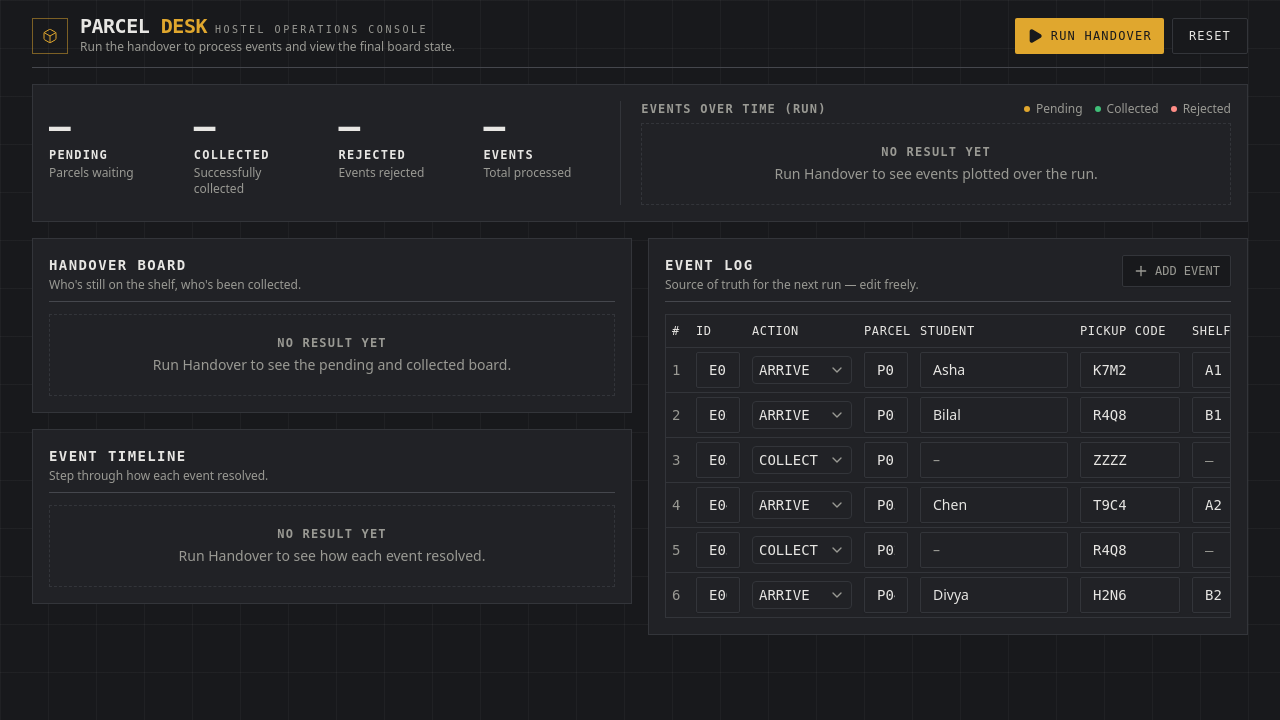
Test case: App — validation › rejects an invalid pickup code with a specific field-level message
This screenshot has width=1280, height=720.
Replace the text in the field named "Row 1 Pickup Code" with "bad": (1130, 370) [1080,352,1180,388]
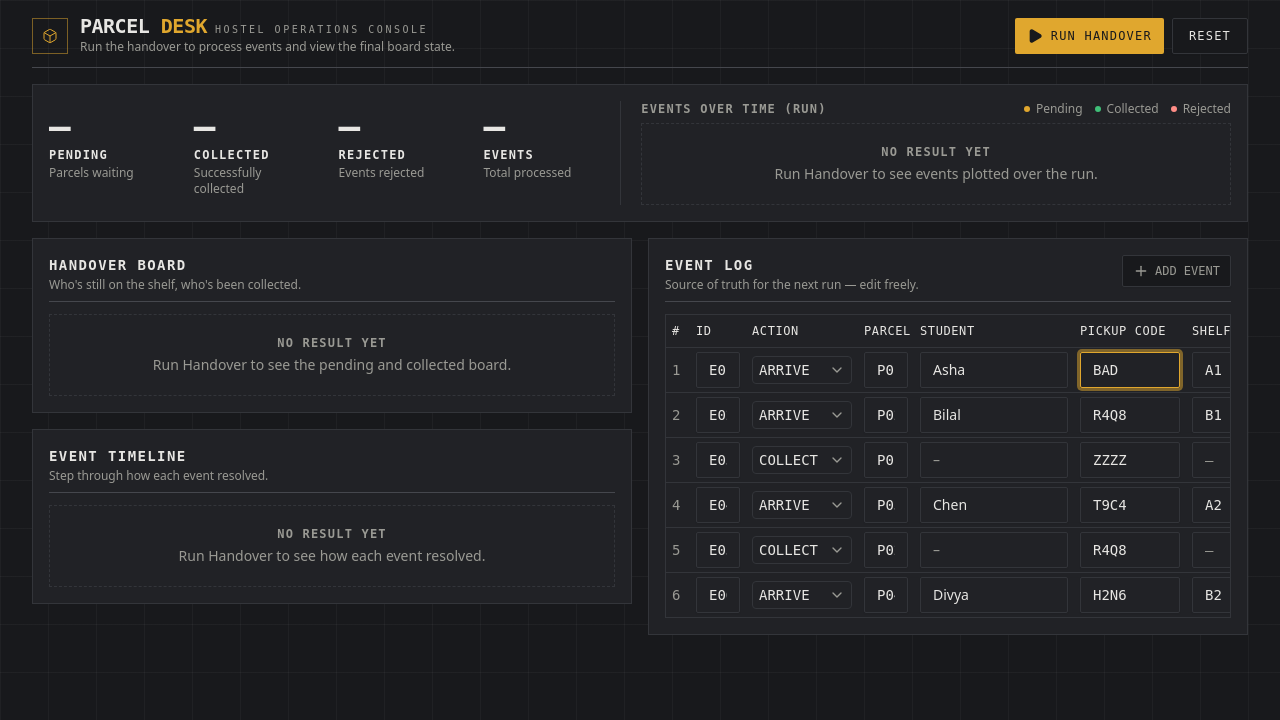
Click the button with test id "run-handover": (1089, 36) [1015,18,1164,54]
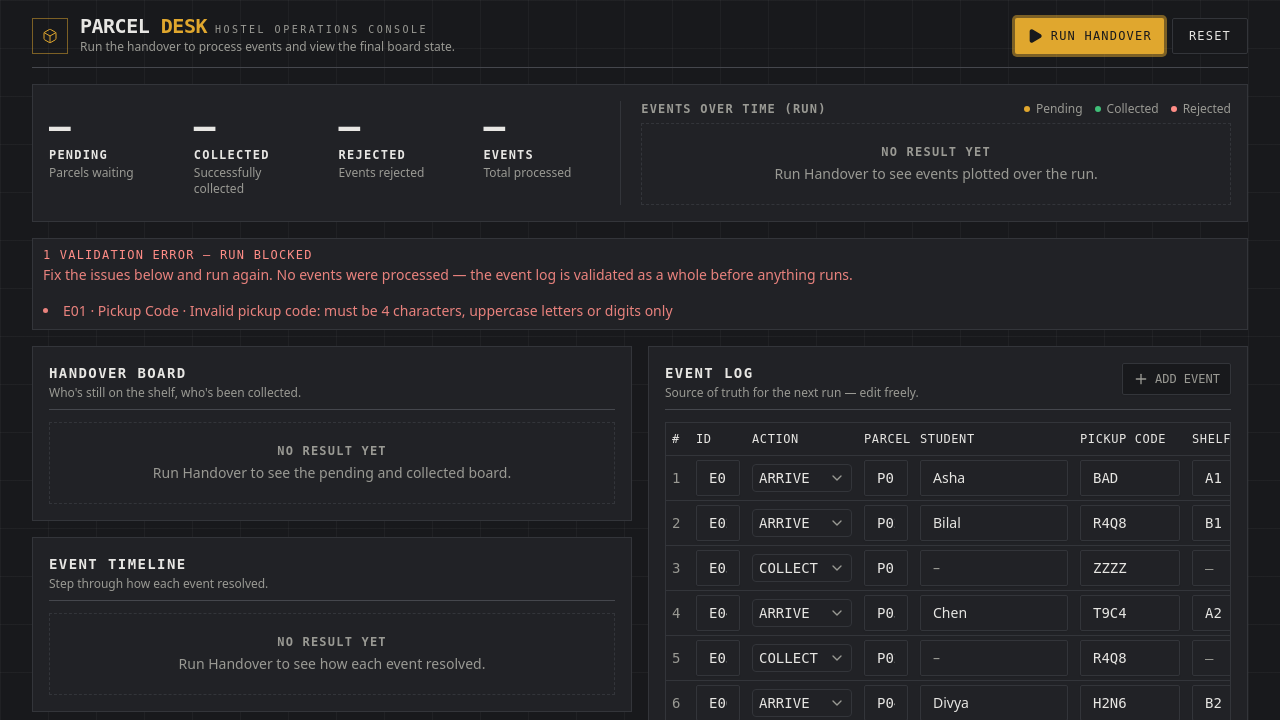
expect the element with test id "validation-banner" shows "Pickup Code": met, box [63,301,672,320]
expect the element with test id "validation-banner" shows "Invalid pickup code": met, box [63,301,672,320]
